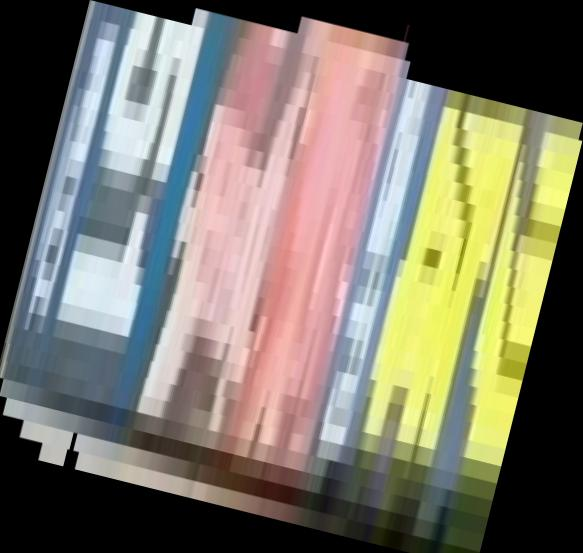flat: (1, 1, 583, 553)
